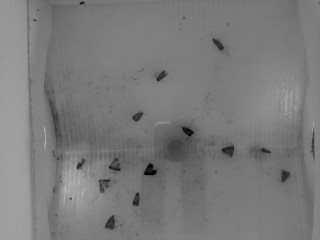insect: (96, 177, 114, 193), (142, 161, 158, 176), (152, 68, 169, 82), (103, 213, 117, 230), (210, 36, 225, 51), (107, 156, 122, 171), (220, 144, 236, 157), (279, 168, 291, 184), (180, 125, 195, 137), (131, 190, 141, 207), (130, 110, 144, 122), (75, 157, 86, 170), (259, 146, 272, 155)
